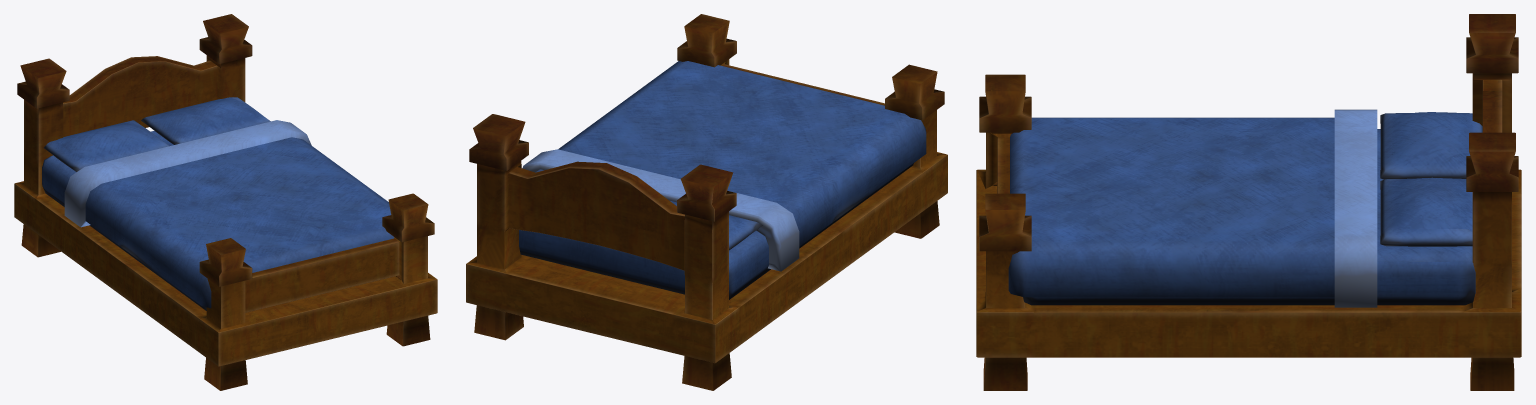
The model's file is low_poly_bed.glb.
3 views of the same model, side by side, from view 1: azimuth 30°, elevation 25°; view 2: azimuth 150°, elevation 25°; view 3: azimuth 270°, elevation 25° (orthographic). The views are drawn at different scales.
Parts seen in each view (by area): view 1: low_poly_bed_01_lambert2_0, low_poly_bed_01_lambert3_0, low_poly_bed_01_lambert4_0; view 2: low_poly_bed_01_lambert2_0, low_poly_bed_01_lambert3_0, low_poly_bed_01_lambert4_0; view 3: low_poly_bed_01_lambert3_0, low_poly_bed_01_lambert2_0, low_poly_bed_01_lambert4_0.
Boxes of the visible parts, x1,y1,x2,y2 form: low_poly_bed_01_lambert2_0: (14, 14, 437, 390); low_poly_bed_01_lambert3_0: (42, 97, 394, 310); low_poly_bed_01_lambert4_0: (64, 120, 311, 227); low_poly_bed_01_lambert2_0: (466, 14, 947, 390); low_poly_bed_01_lambert3_0: (519, 61, 926, 299); low_poly_bed_01_lambert4_0: (522, 149, 799, 271); low_poly_bed_01_lambert3_0: (1008, 112, 1482, 305); low_poly_bed_01_lambert2_0: (976, 14, 1521, 390); low_poly_bed_01_lambert4_0: (1334, 109, 1377, 307).
Size of the model in its own units: 0.0461 by 0.0341 by 0.0702.
3 materials, 3 textured.
